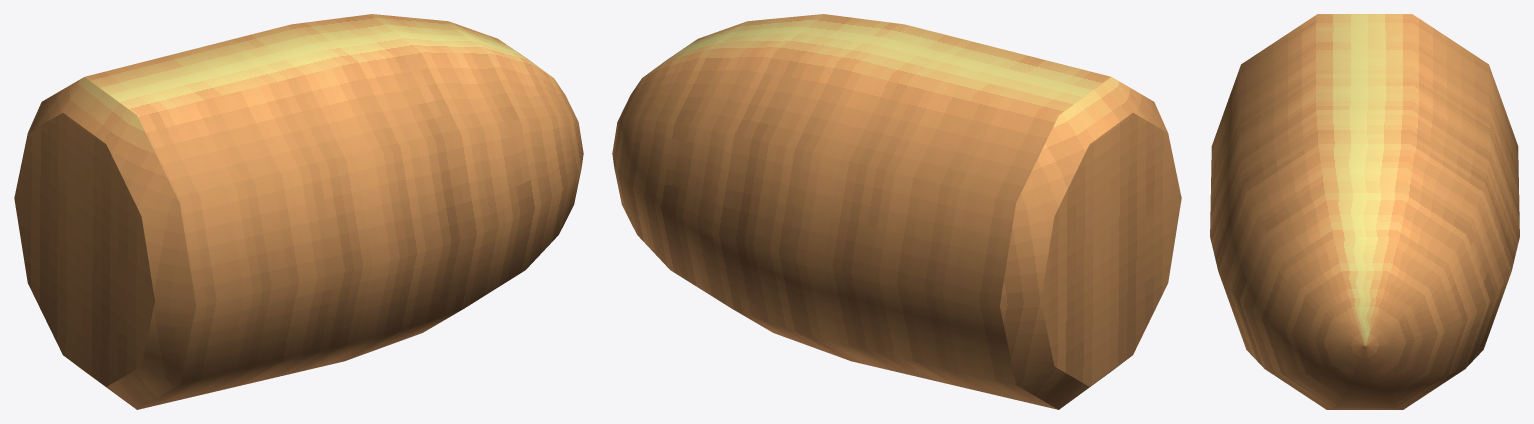
File: ammomaker_BulletHandgunM.fbx
3 views of the same model, side by side, from view 1: azimuth 30°, elevation 25°; view 2: azimuth 150°, elevation 25°; view 3: azimuth 270°, elevation 25° (orthographic). The views are drawn at different scales.
Parts seen in each view (by area): view 1: ammomaker_BulletHandgunM; view 2: ammomaker_BulletHandgunM; view 3: ammomaker_BulletHandgunM.
Part boxes in pixels (x1,y1,x2,y2): ammomaker_BulletHandgunM: (14,14,583,409); ammomaker_BulletHandgunM: (612,14,1181,409); ammomaker_BulletHandgunM: (1210,14,1519,409).
Bounding box in the file's own units: 1.85 × 1.09 × 1.15.
